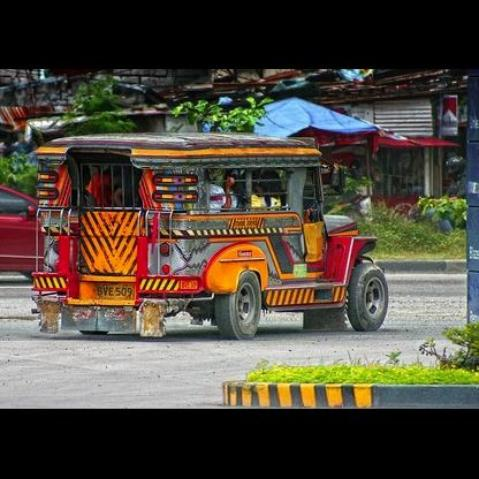jeepney: (28, 119, 397, 345)
